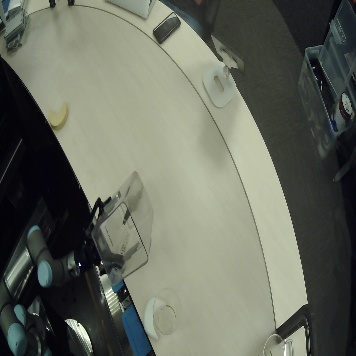empty_cup: (151, 288, 183, 337), (256, 331, 293, 356)
puck: (143, 296, 166, 339), (48, 102, 69, 130)
